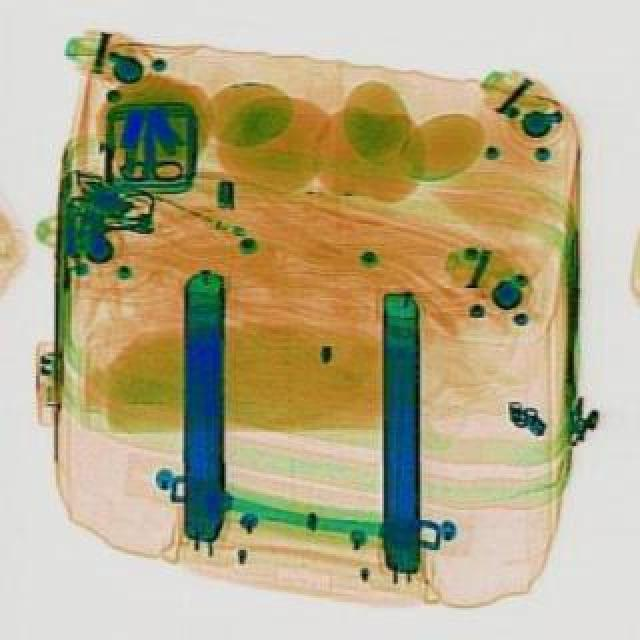pliers: (118, 118, 180, 186)
